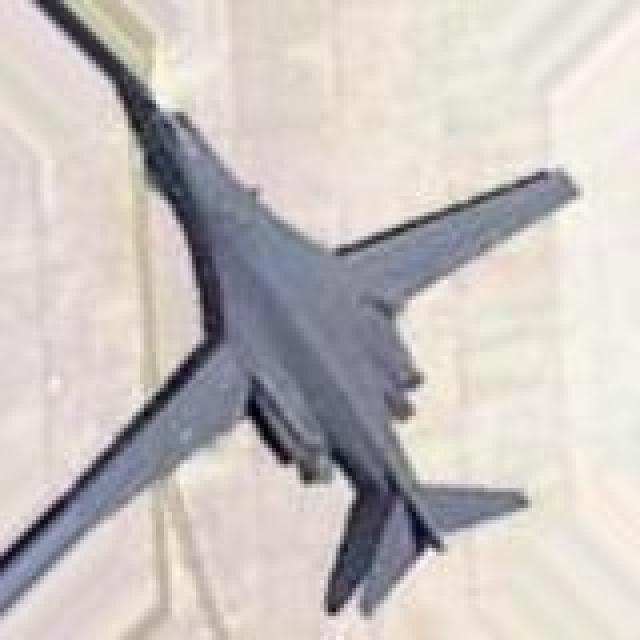B-1_TopDown: (0, 0, 580, 632)
